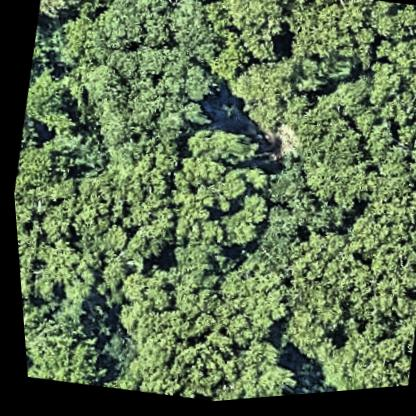tree-top: (66, 0, 223, 165), (52, 136, 182, 288), (263, 226, 367, 369), (118, 317, 267, 410), (108, 241, 221, 357), (336, 39, 416, 201), (14, 226, 109, 333), (274, 0, 373, 94), (203, 254, 291, 351), (336, 191, 416, 297), (177, 124, 258, 226), (287, 129, 374, 221), (307, 320, 409, 398), (221, 50, 307, 140), (18, 304, 108, 387), (253, 190, 346, 267), (202, 339, 295, 404), (211, 0, 295, 68), (16, 65, 81, 140), (8, 140, 64, 209), (210, 195, 268, 259), (198, 28, 250, 91), (363, 2, 416, 60), (24, 12, 62, 81), (30, 201, 75, 246), (34, 0, 94, 31), (77, 0, 142, 10)
